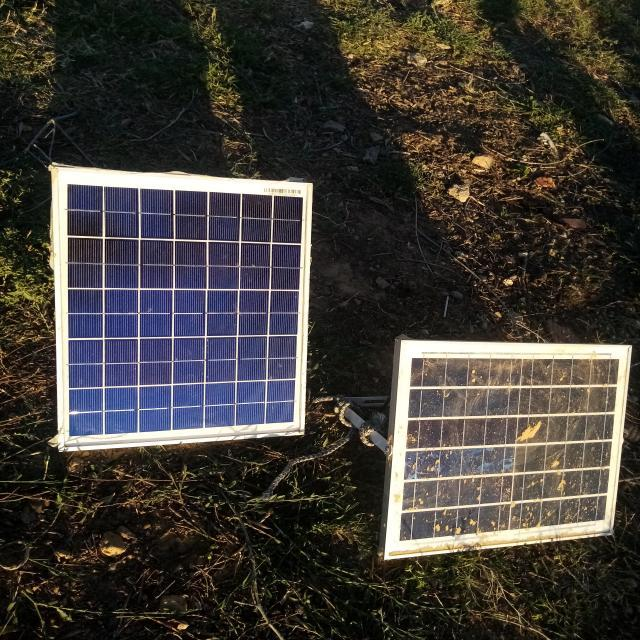faulty: (386, 341, 630, 558)
no faulty: (54, 167, 312, 452)
